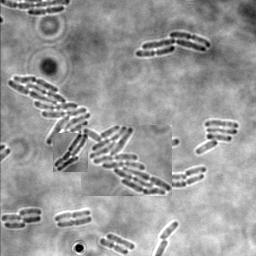Dividing: (99, 238, 128, 255), (54, 209, 90, 222), (172, 175, 204, 189), (56, 217, 92, 228), (27, 7, 64, 17)
Microcolony: (7, 76, 98, 147), (81, 125, 172, 196), (135, 32, 211, 57), (195, 120, 238, 155), (53, 133, 88, 172), (1, 208, 42, 229)
Rod: (106, 233, 135, 251), (157, 222, 178, 240), (184, 167, 206, 177), (172, 174, 187, 183)
